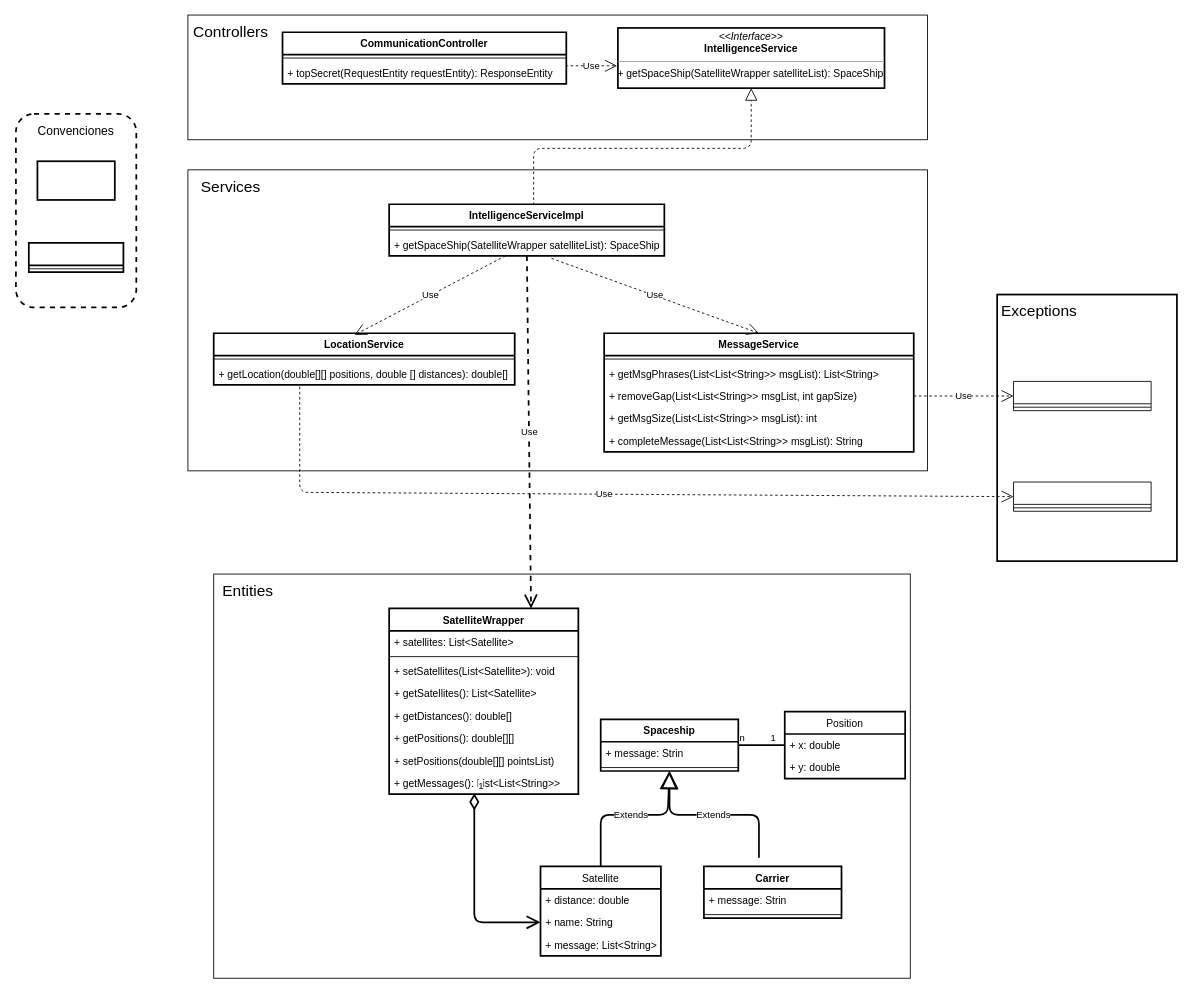
Some shapes in this 1192 by 993 pixel diagram are drawn without their labels. Each missing label, with the centre of its shape:
"Classname" belongs at point (76, 257).
"Layer (Package)" belongs at point (75, 180).
"LocationException" belongs at point (1082, 496).
"MessageException" belongs at point (1082, 396).
